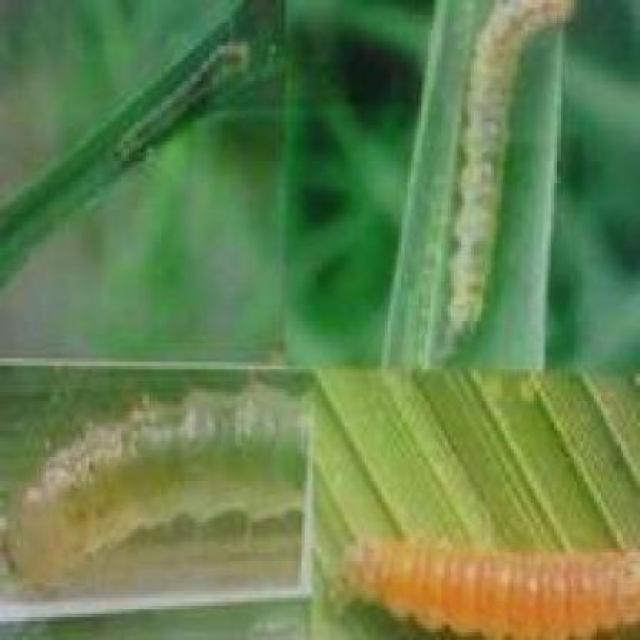leaf-folder: (3, 377, 297, 603), (404, 0, 544, 369), (338, 491, 640, 640), (99, 29, 266, 188)
